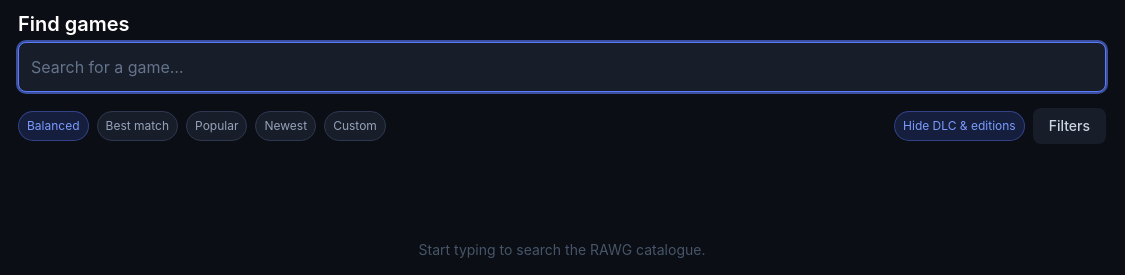
Test: Search — debouncing › drops an in-flight response that lands after the query was cleared
Type "hal" into the field with placeholder "Search for a game…" at {"x": 562, "y": 67}, box [18,42,1106,92]
Wait 350 ms
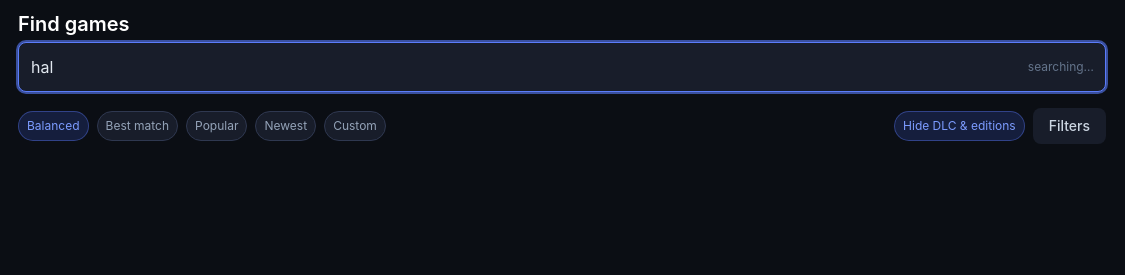
Check: the text "searching…" is shown, box [1028,59,1094,75]
Clear the field with placeholder "Search for a game…" at {"x": 562, "y": 67}, box [18,42,1106,92]
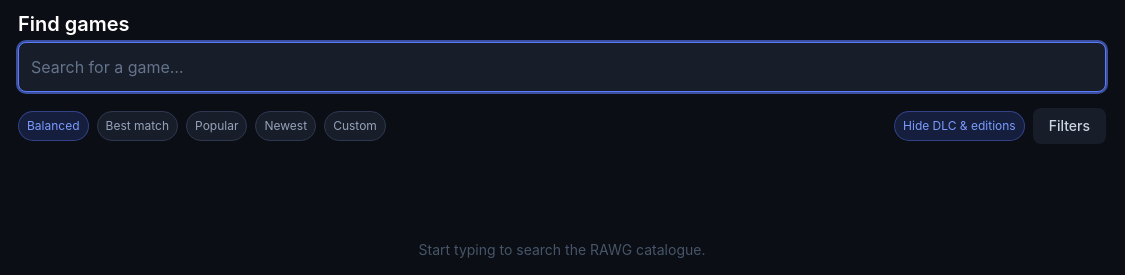
Check: the text "searching…" is gone
Check: the text "Start typing to search the RAWG catalogue." is shown, box [418,241,705,258]
